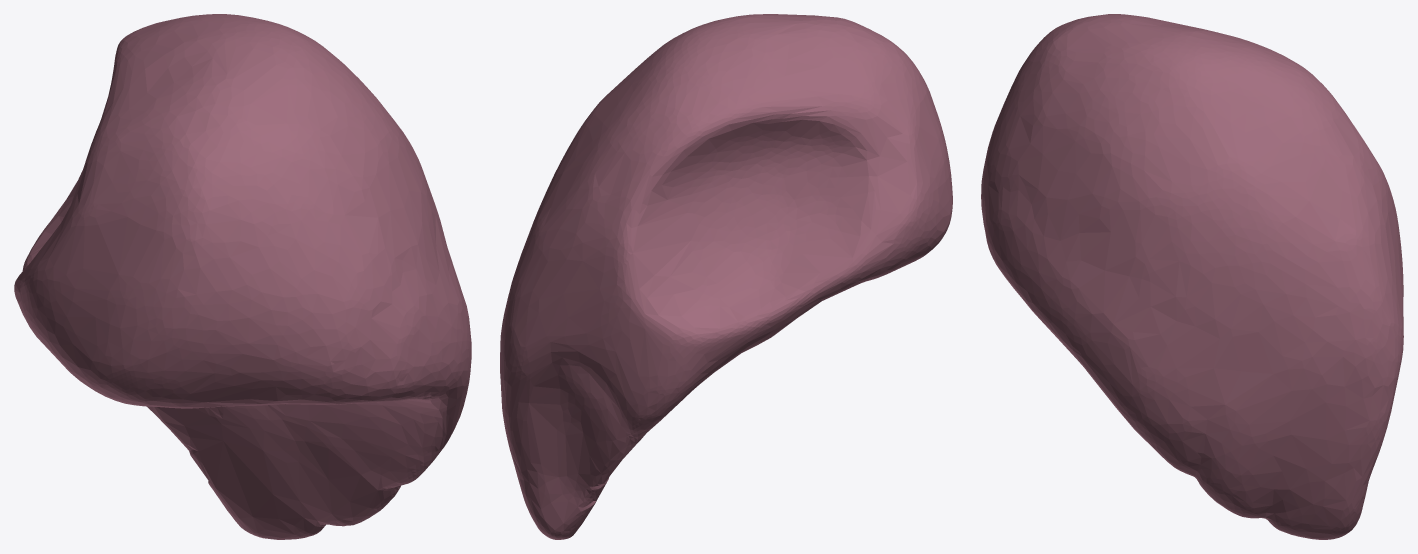
The model's file is rate.glb.
The picture shows the model from 3 angles, left to right: view 1: azimuth 30°, elevation 25°; view 2: azimuth 150°, elevation 25°; view 3: azimuth 270°, elevation 25°; orthographic projection. The views are drawn at different scales.
Parts seen in each view (by area): view 1: FMA7196.stl; view 2: FMA7196.stl; view 3: FMA7196.stl.
Part boxes in pixels (x1,y1,x2,y2): FMA7196.stl: (14,14,471,539); FMA7196.stl: (500,14,952,539); FMA7196.stl: (981,14,1403,539).
Size of the model in its own units: 0.9896 by 1.33 by 1.12.
